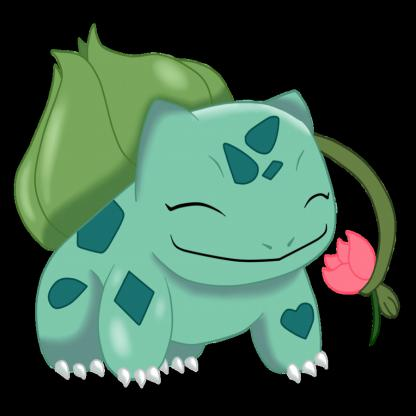Bulbasaur: (1, 21, 411, 408)
